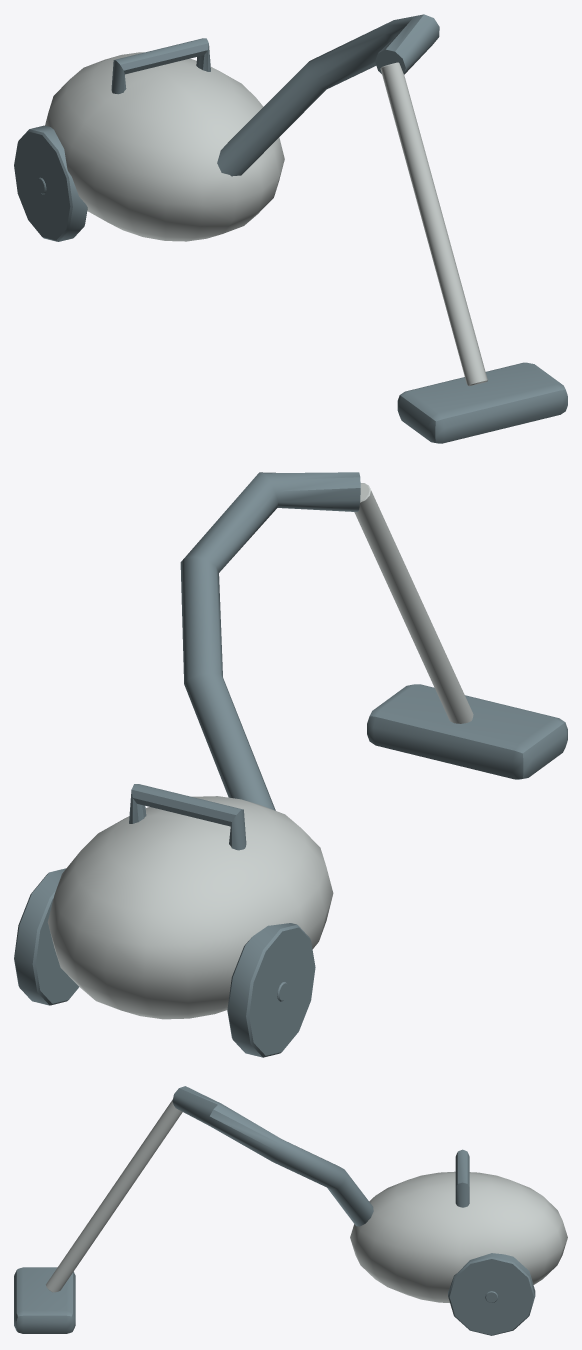
Rendered from vacuum-cleaner.glb.
The picture shows the model from 3 angles, top to bottom: view 1: azimuth 30°, elevation 25°; view 2: azimuth 150°, elevation 25°; view 3: azimuth 270°, elevation 25°; orthographic projection. The views are drawn at different scales.
Visible parts, largest first — view 1: canister, corrugated_hose, floor_head, wand, large_wheel_wheel, carry_handle; view 2: canister, corrugated_hose, floor_head, large_wheel_wheel, wand, large_wheel_wheel.001, carry_handle; view 3: canister, corrugated_hose, large_wheel_wheel.001, floor_head, wand, carry_handle.
Boxes of the visible parts, x1,y1,x2,y2 form: canister: (45,52,284,241); corrugated_hose: (217,14,439,176); floor_head: (397,362,567,443); wand: (380,62,487,386); large_wheel_wheel: (14,125,87,241); carry_handle: (111,38,210,94); canister: (47,796,333,1019); corrugated_hose: (180,472,360,810); floor_head: (367,684,567,779); large_wheel_wheel: (227,923,315,1057); wand: (354,483,473,723); large_wheel_wheel.001: (14,868,78,1005); carry_handle: (129,784,246,850); canister: (350,1171,567,1302); corrugated_hose: (172,1086,373,1226); large_wheel_wheel.001: (448,1253,535,1335); floor_head: (14,1267,75,1333); wand: (46,1099,182,1292); carry_handle: (455,1149,469,1207).
Bounding box in the file's own units: 0.5432 × 0.7039 × 1.53.
